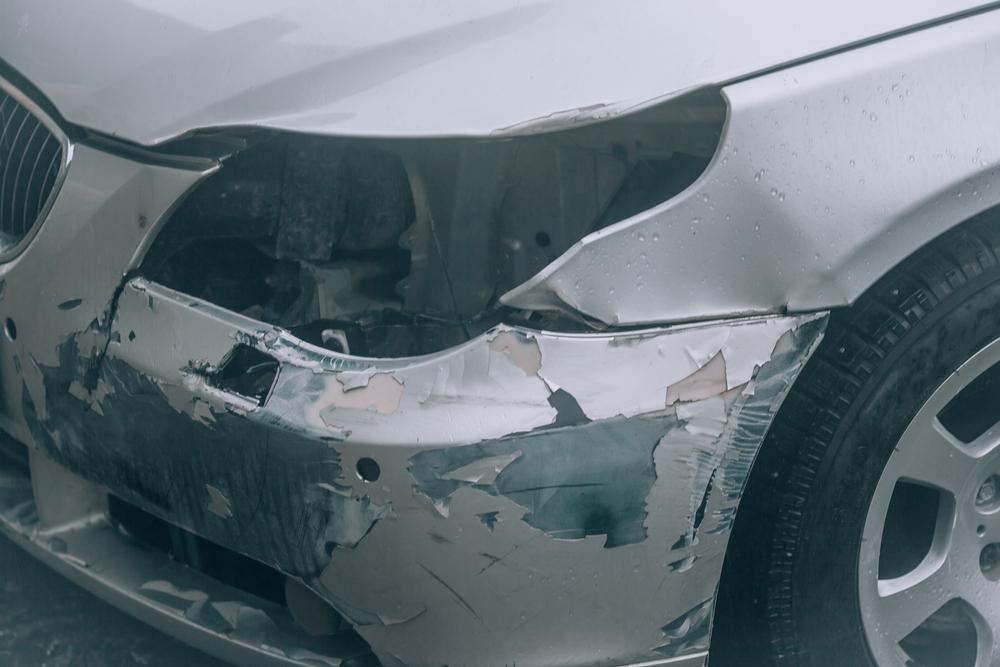crack: (92, 266, 142, 393)
dent: (547, 145, 847, 325)
scratch: (13, 315, 805, 659)
